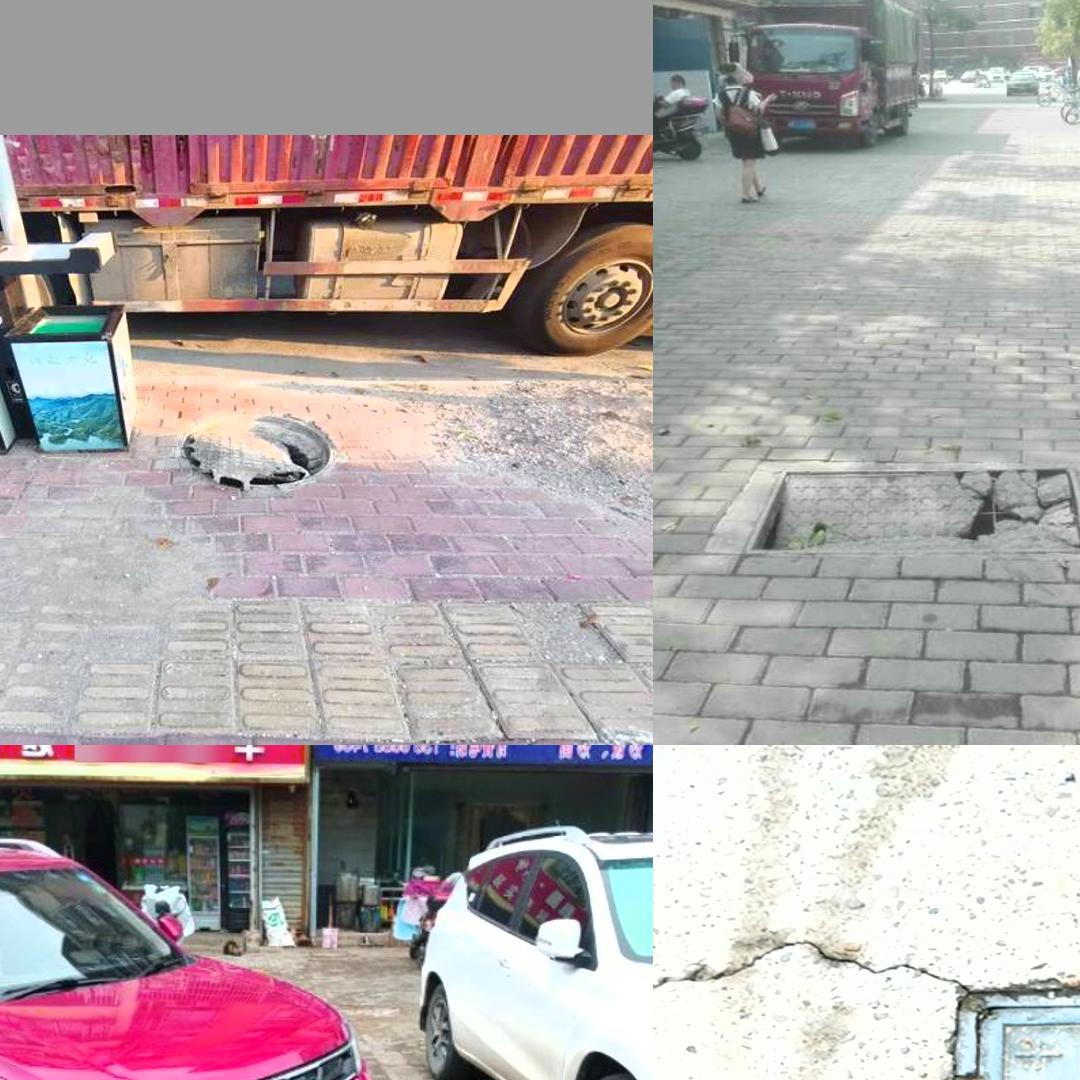broke: (742, 464, 1080, 558), (154, 393, 353, 519), (936, 984, 1080, 1080)
